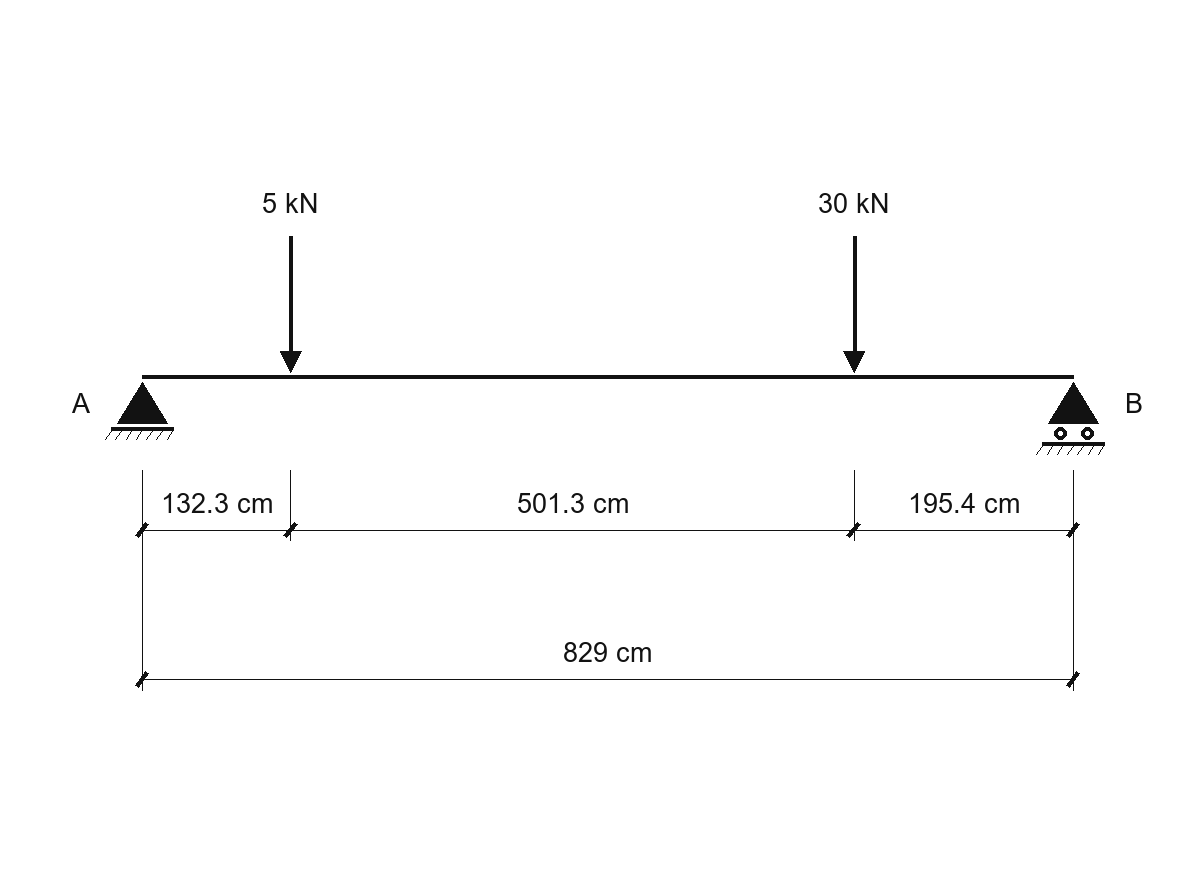pin_support: (105, 382, 174, 440)
point_load: (280, 236, 302, 373), (843, 236, 865, 373)
roller_support: (1036, 382, 1105, 455)
